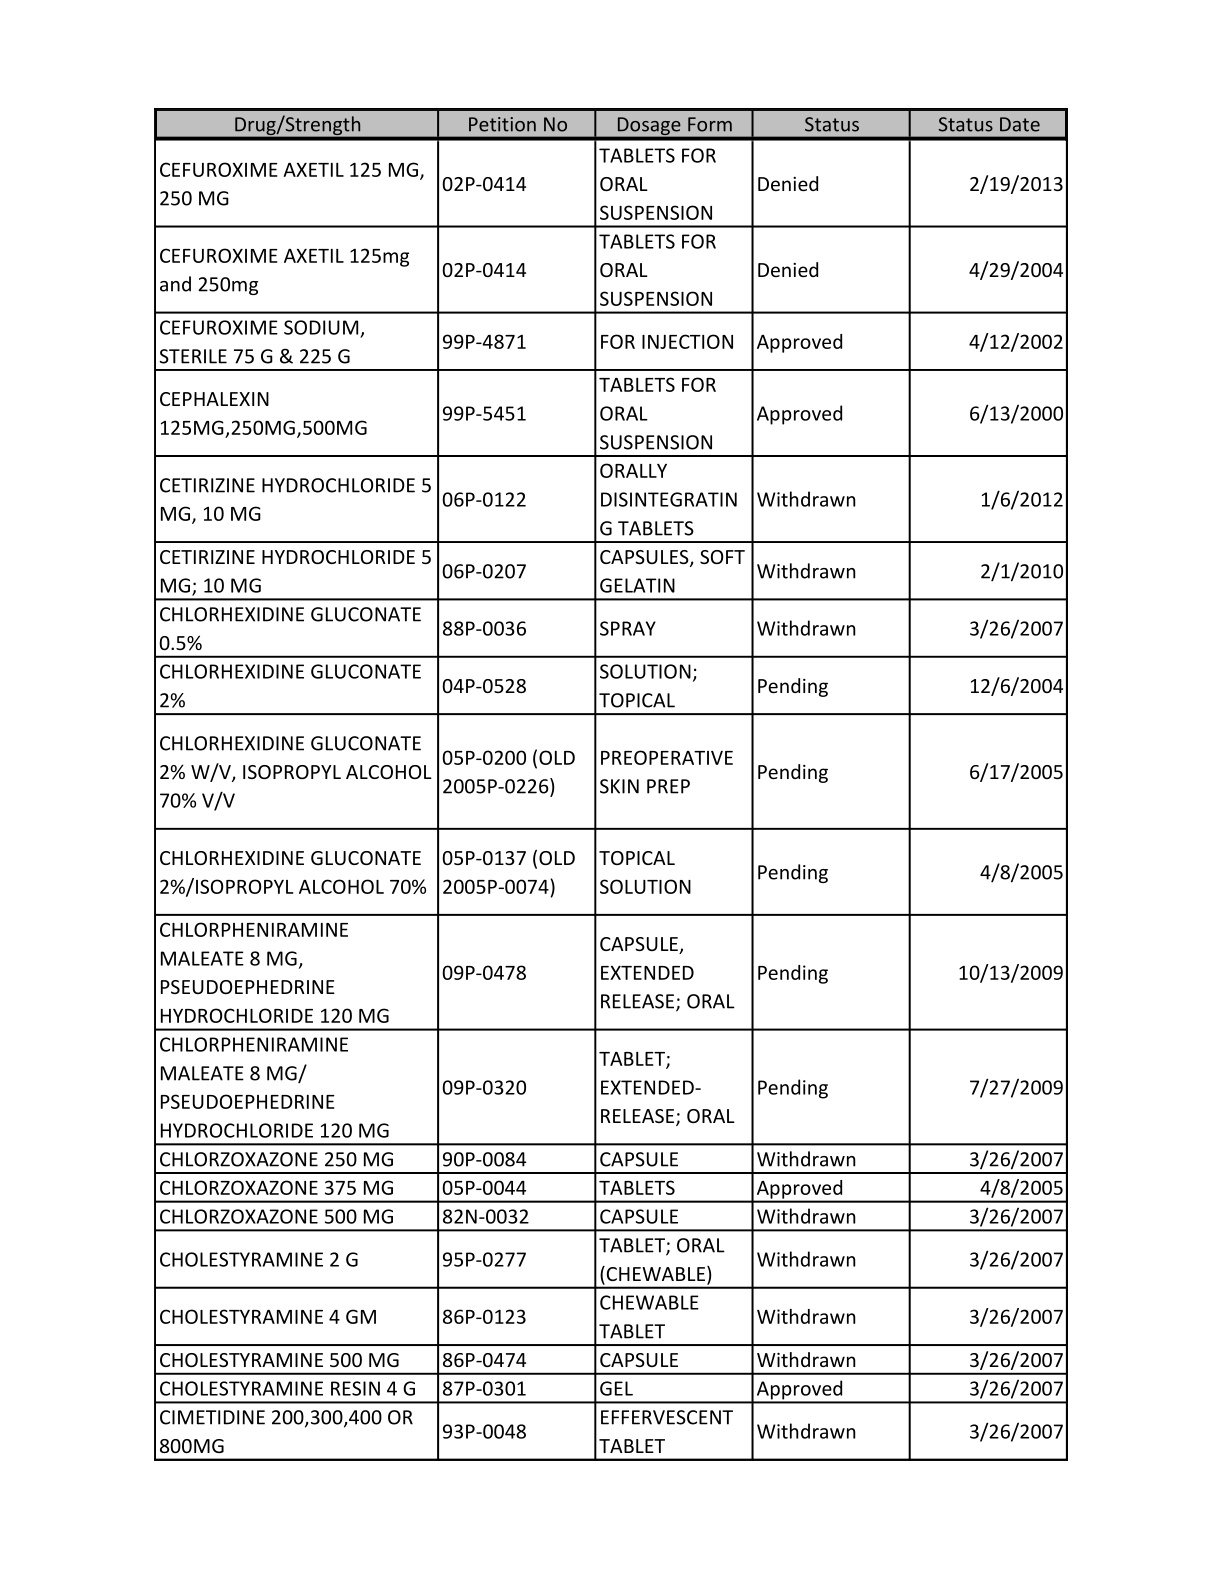full_lined: (152, 108, 1068, 1462)
